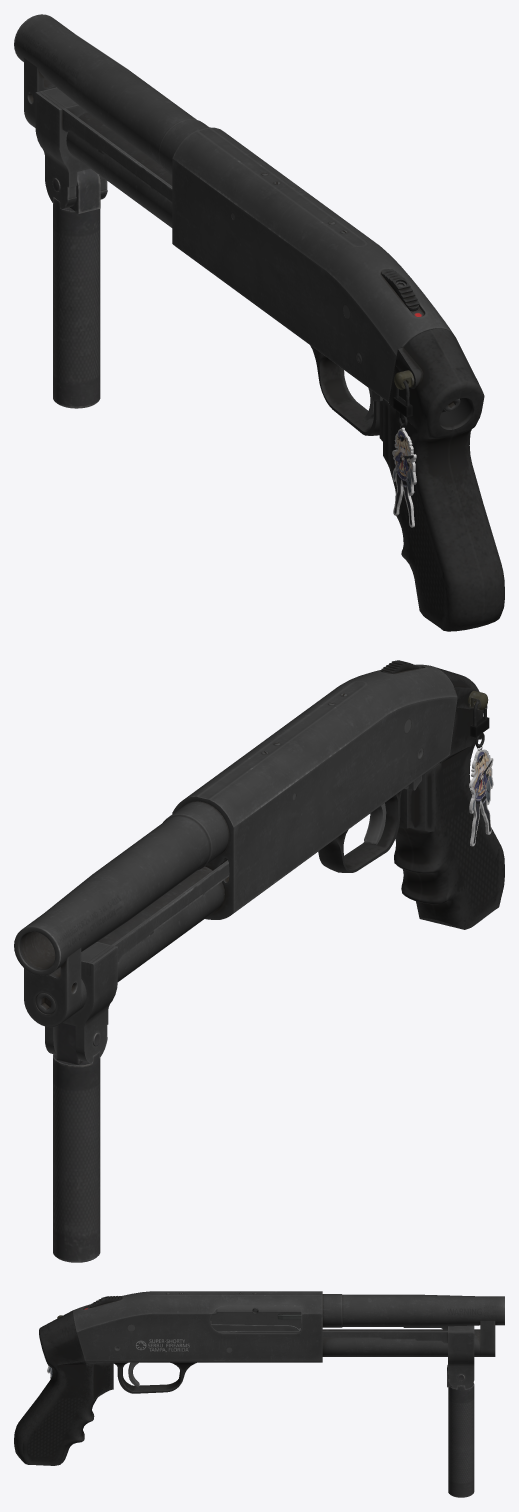
Rendered from shotgun.glb.
3 views of the same model, one above another, from view 1: azimuth 30°, elevation 25°; view 2: azimuth 150°, elevation 25°; view 3: azimuth 270°, elevation 25° (orthographic). The views are drawn at different scales.
Parts seen in each view (by area): view 1: serbu_super_shorty, charm_gfl; view 2: serbu_super_shorty, charm_gfl; view 3: serbu_super_shorty.
Boxes of the visible parts, x1=… form: serbu_super_shorty: x1=14, y1=14, x2=504, y2=631; charm_gfl: x1=392, y1=380, x2=416, y2=527; serbu_super_shorty: x1=14, y1=660, x2=504, y2=1262; charm_gfl: x1=469, y1=701, x2=493, y2=846; serbu_super_shorty: x1=14, y1=1291, x2=504, y2=1497.
Size of the model in its own units: 0.3682 by 1.69 by 3.76.
3 materials, 3 textured.
